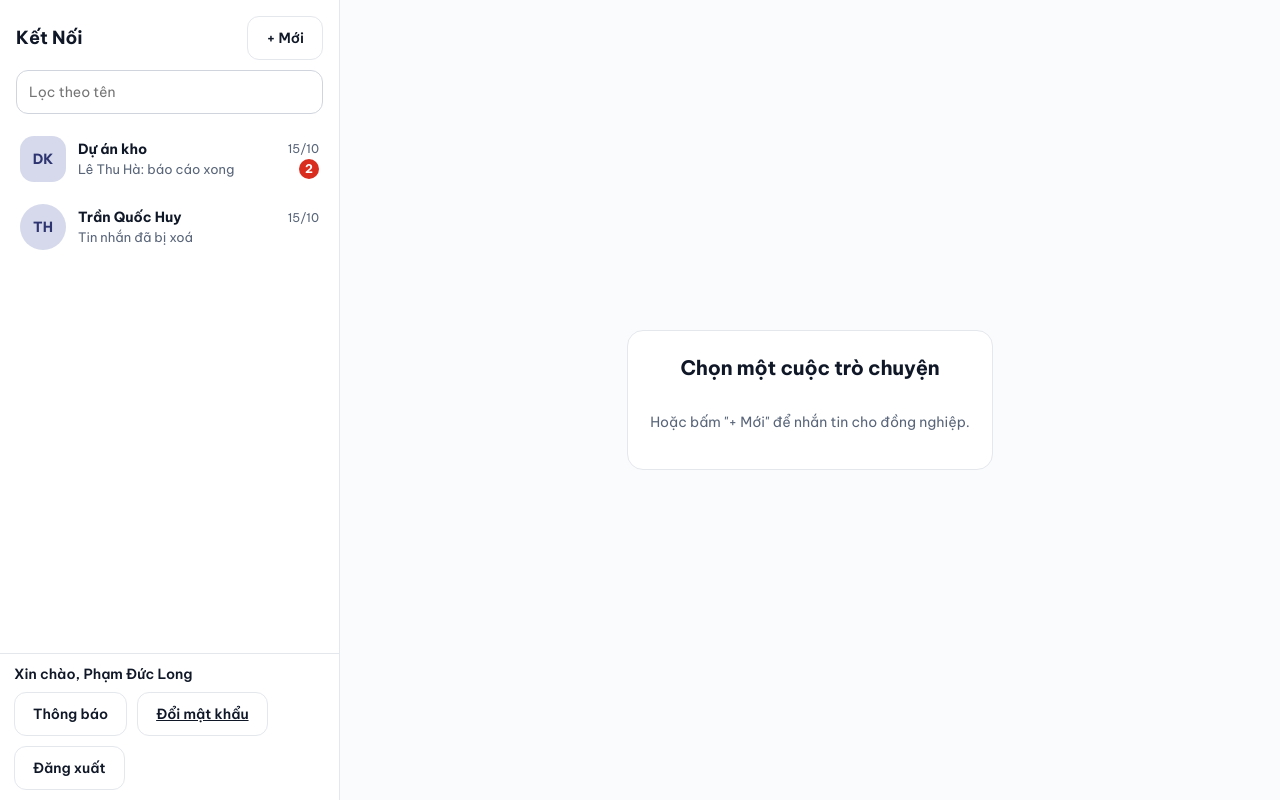
it: chat layout › filters the room list by name
The width and height of the screenshot is (1280, 800).
Check: the link "Dự án kho" is shown, box x1=10 y1=126 x2=329 y2=192
Step 1. Type "huy" into the field named "Lọc cuộc trò chuyện" → {"x": 170, "y": 92}, box x1=16 y1=70 x2=323 y2=114
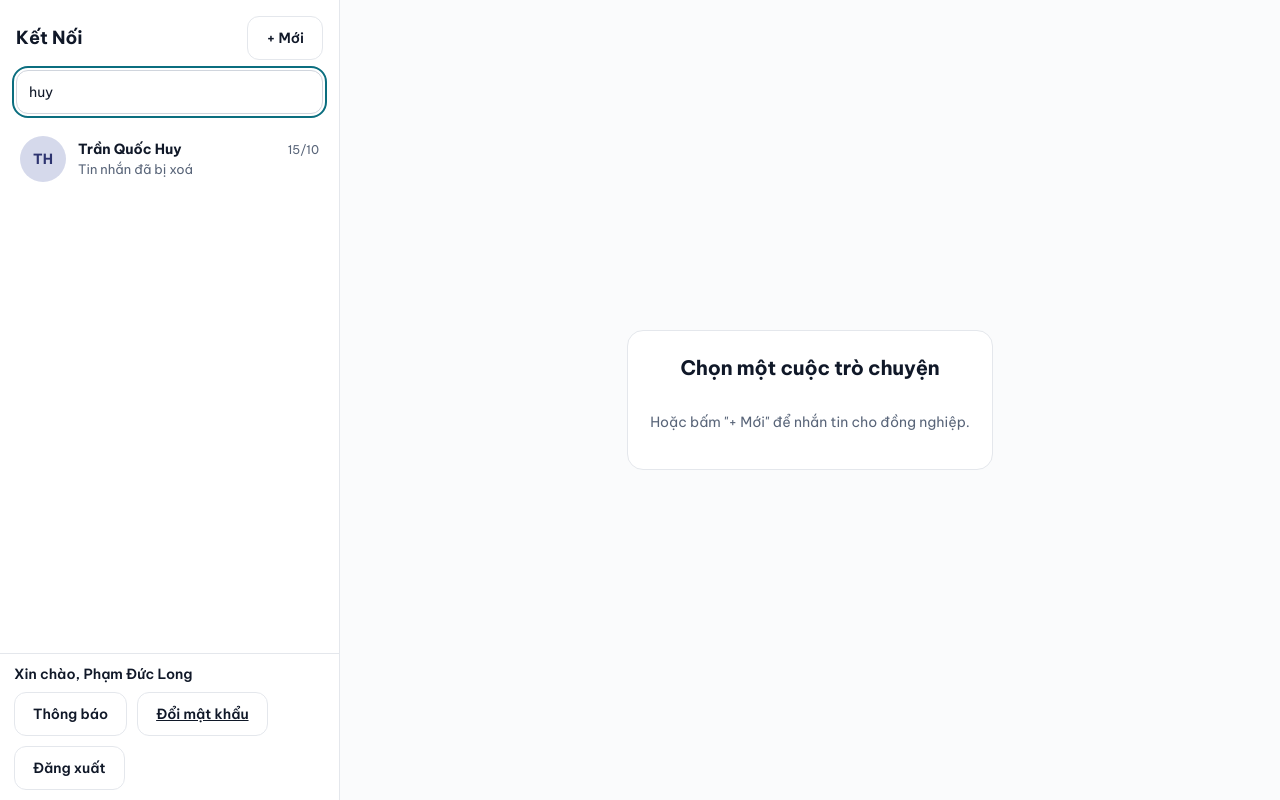
Check: the link "TH Trần Quốc Huy 15/10 Tin nhắn đã bị xoá" is shown, box x1=10 y1=126 x2=329 y2=192
Check: the link "Dự án kho" is gone
